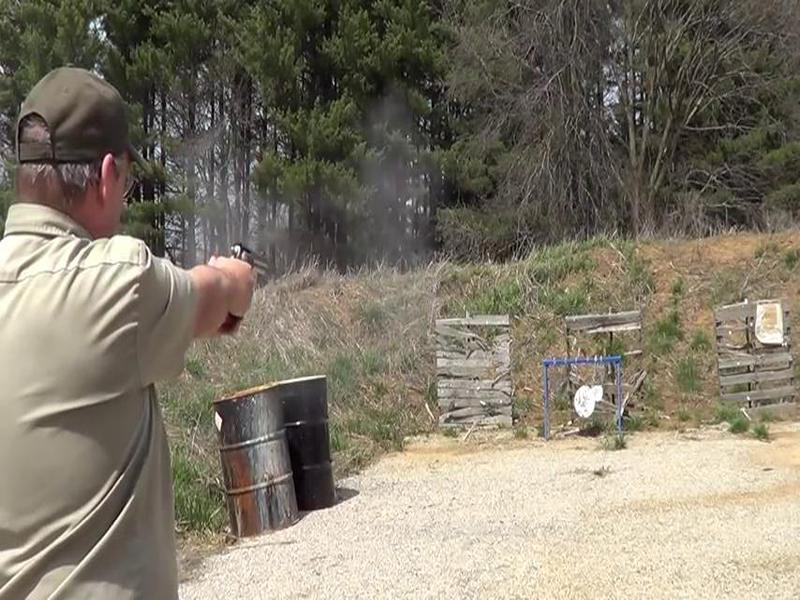Revolver: (224, 234, 297, 306)
